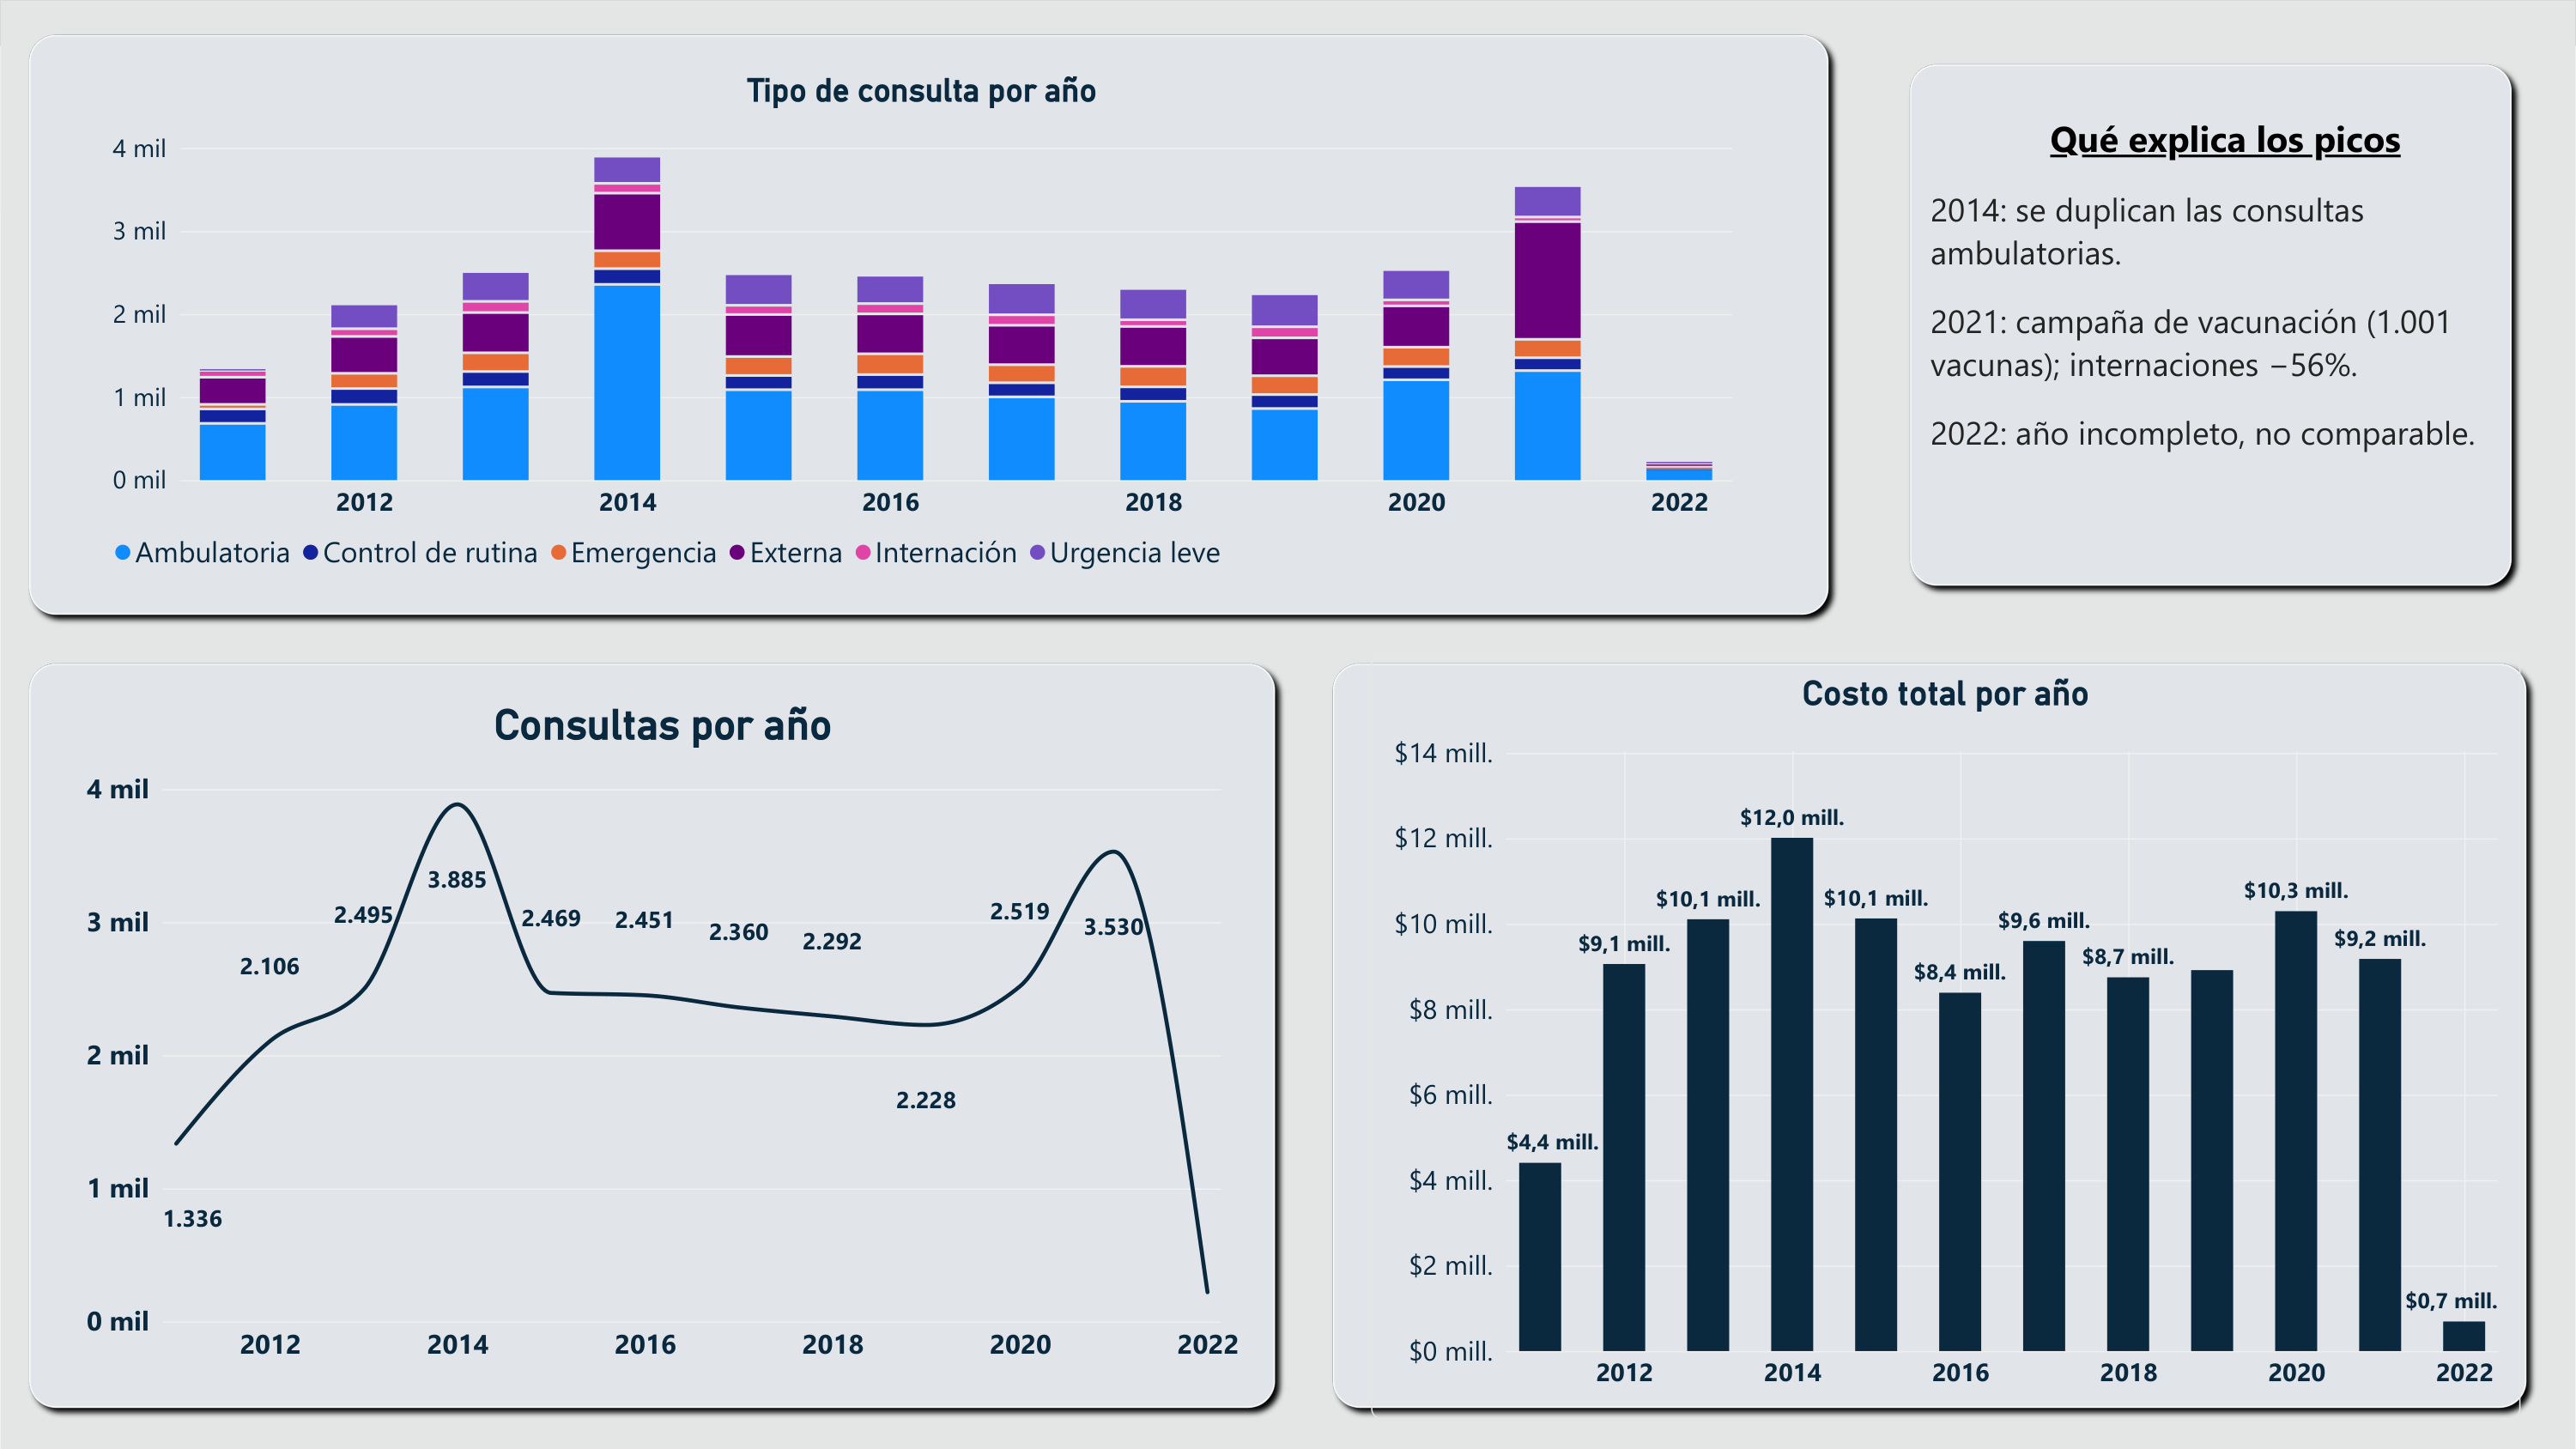

This screenshot's page, from the dashboard's own definition file:
{"tool":"powerbi","page":{"name":"EVOLUCIÓN ANUAL","canvas":[1920,1080],"ordinal":2},"visuals":[{"type":"shape","box":[1414.8,38.9,466.6,406.1],"z":0},{"type":"shape","box":[985,486,907.2,572.4],"z":1000},{"type":"shape","box":[13,486,946.1,572.4],"z":2000},{"type":"shape","box":[13,17.3,1358.6,449.3],"z":3000},{"type":"lineChart","title":"Consultas por año","fields":{"Category":["fct_consultas.anio"],"Y":["medidas.Consultas"]},"box":[47.5,507.6,892.1,529.2],"z":4000},{"type":"columnChart","title":"Tipo de consulta por año","fields":{"Category":["fct_consultas.anio"],"Series":["fct_consultas.tipo_consulta"],"Y":["medidas.Consultas"]},"box":[67,38.9,1239.8,406.1],"z":5000},{"type":"clusteredColumnChart","title":"Costo total por año","fields":{"Category":["fct_consultas.anio"],"Y":["medidas.Costo Total"]},"box":[1021.7,486,857.5,572.4],"z":6000},{"type":"textbox","box":[1438.6,84.2,440.6,343.4],"z":7000}]}

Visuals, with their boxes in screenshot pixels (x1, y1, x2, y2), scaled from the page's 1920x1080 canvas onto the 2576x1449 screenshot:
shape: <bbox>1898, 52, 2524, 597</bbox>
shape: <bbox>1322, 652, 2539, 1420</bbox>
shape: <bbox>17, 652, 1287, 1420</bbox>
shape: <bbox>17, 23, 1840, 626</bbox>
"Consultas por año" lineChart: <bbox>64, 681, 1261, 1391</bbox>
"Tipo de consulta por año" columnChart: <bbox>90, 52, 1754, 597</bbox>
"Costo total por año" clusteredColumnChart: <bbox>1371, 652, 2521, 1420</bbox>
textbox: <bbox>1930, 113, 2521, 573</bbox>
